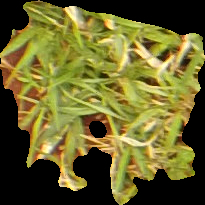grass: (1, 1, 203, 204)
